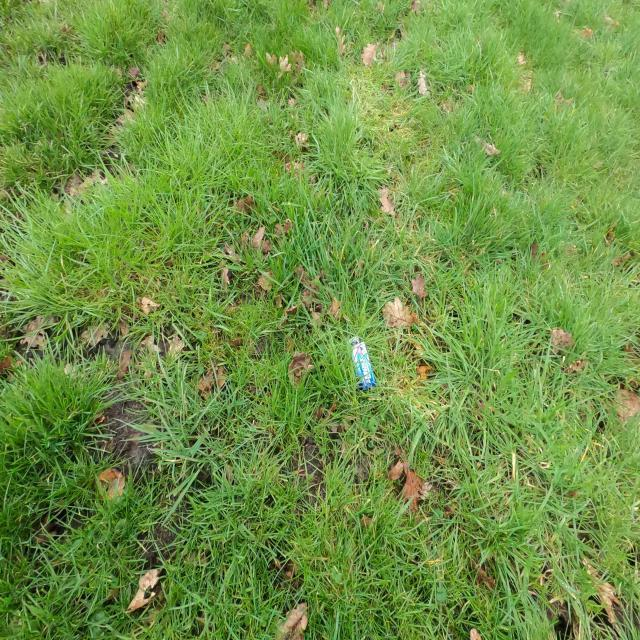Plastic: (346, 334, 376, 392)
